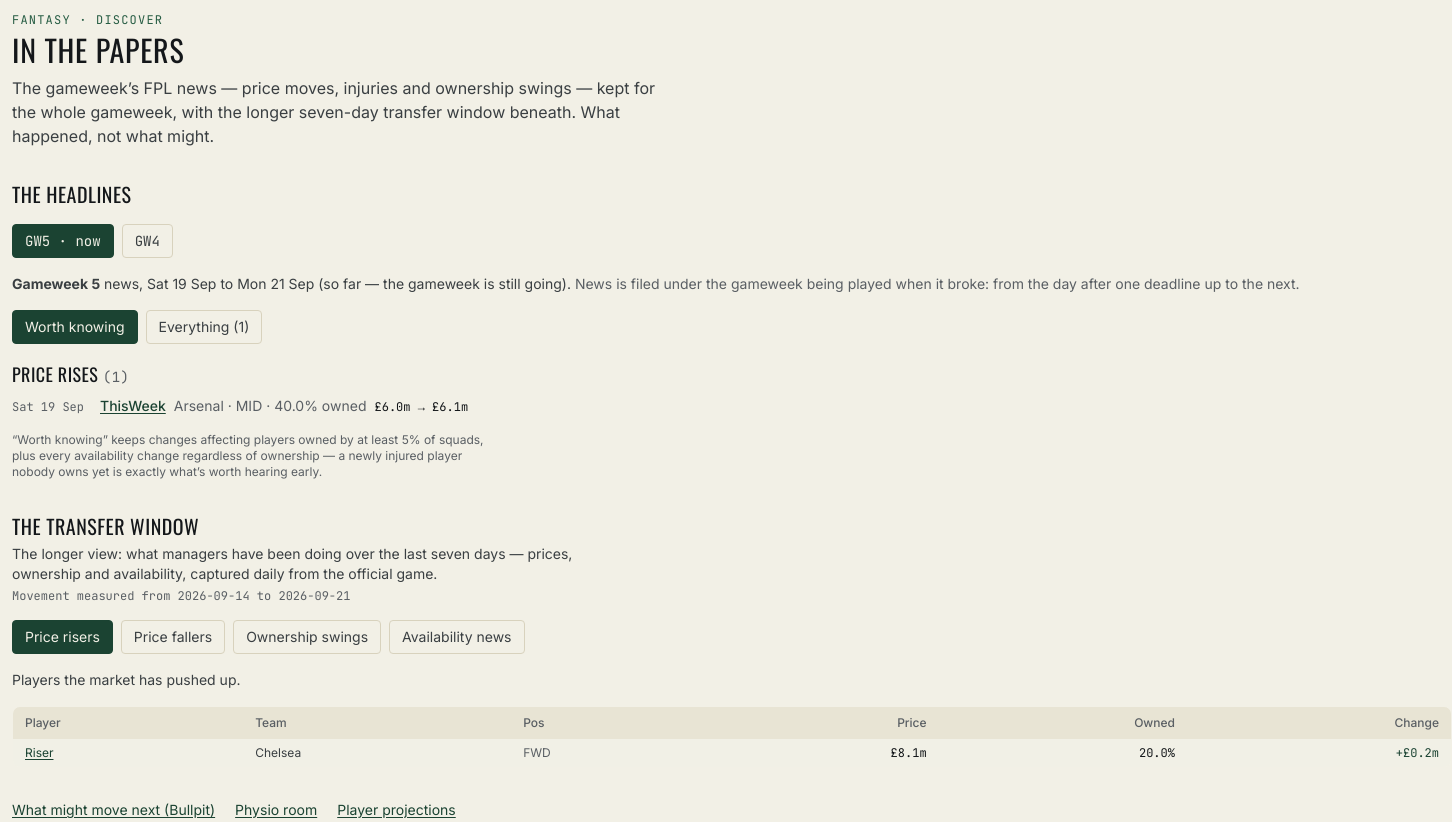
Test: In the papers › filters by gameweek
Expected: the link "ThisWeek" is shown, x1=100 y1=397 x2=166 y2=414
Click the button "GW4".
click(147, 241)  # box x1=122 y1=224 x2=173 y2=258
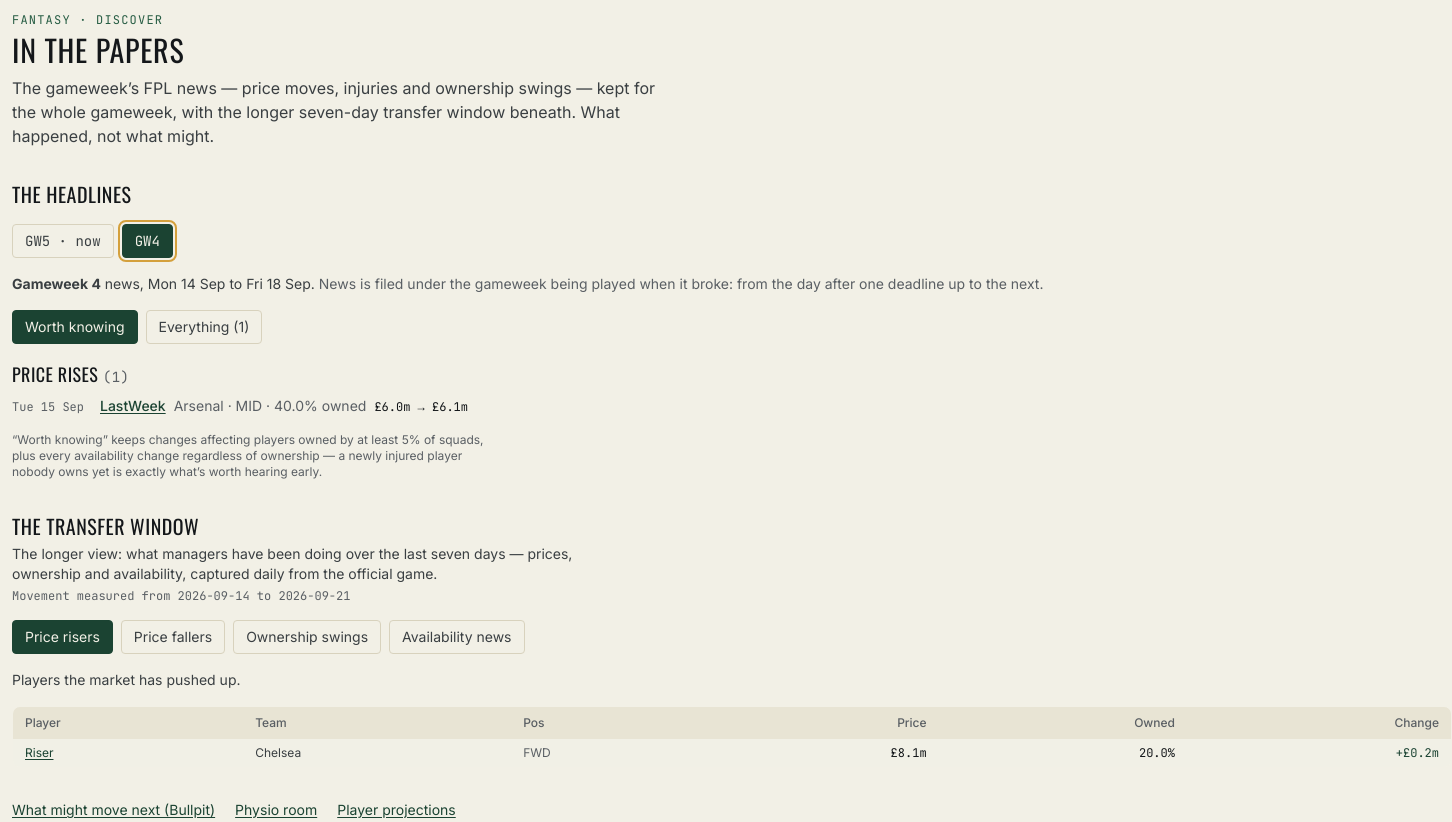
Now the link "LastWeek" is shown, box x1=100 y1=397 x2=166 y2=414
Now the link "ThisWeek" is gone
Now the text "Gameweek 4" no longer shows "so far"
